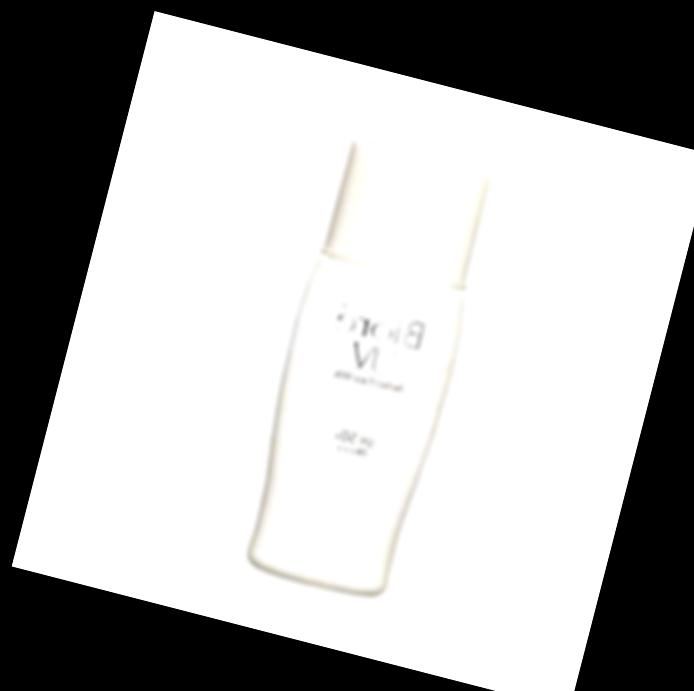cosmetic: (231, 132, 498, 605)
